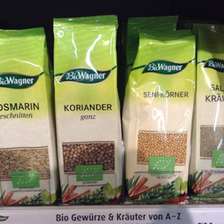spices: (52, 16, 122, 203), (124, 26, 196, 206), (1, 28, 57, 205)
